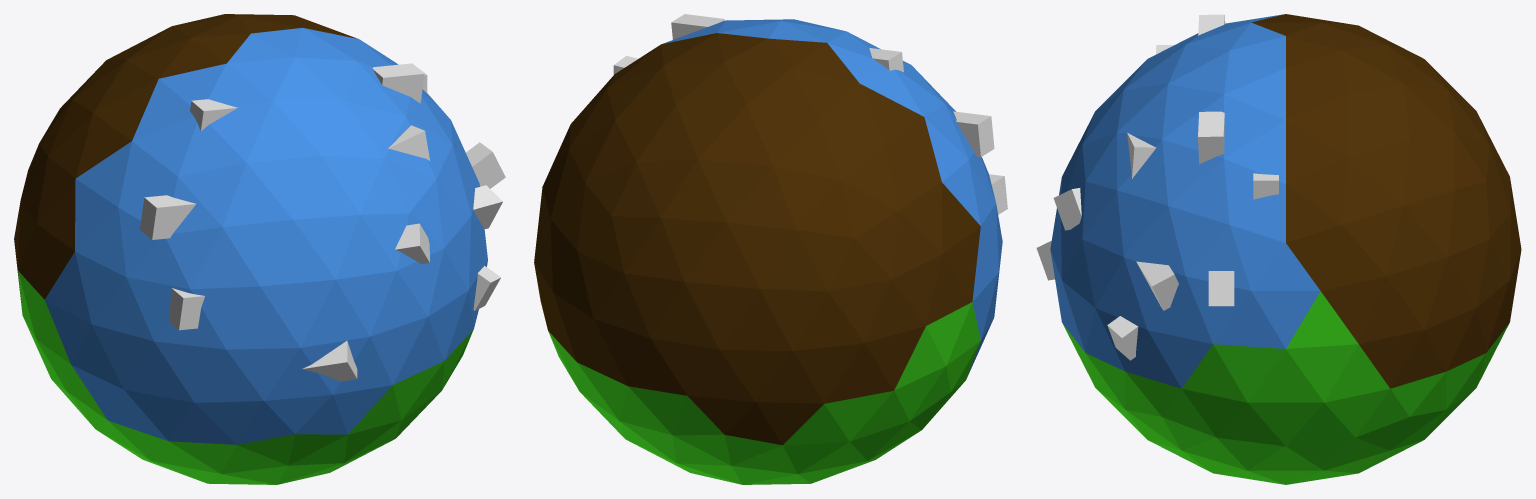
File: planet 1x2x3o.fbx
3 views of the same model, side by side, from view 1: azimuth 30°, elevation 25°; view 2: azimuth 150°, elevation 25°; view 3: azimuth 270°, elevation 25° (orthographic).
Parts seen in each view (by area): view 1: Icosphere.005, Cube.036, Cube.037, Cube.035, Cube.039, Cube.041, Cube.040, Cube.033, Cube.038, Cube.042, Cube.034; view 2: Icosphere.005, Cube.036, Cube.037, Cube.038, Cube.039; view 3: Icosphere.005, Cube.037, Cube.033, Cube.041, Cube.034, Cube.040, Cube.042, Cube.043.
Part boxes in pixels (x1=…): Icosphere.005: x1=14, y1=14, x2=487, y2=484; Cube.036: x1=140, y1=195, x2=195, y2=239; Cube.037: x1=372, y1=63, x2=424, y2=103; Cube.035: x1=302, y1=341, x2=357, y2=381; Cube.039: x1=169, y1=288, x2=204, y2=330; Cube.041: x1=466, y1=142, x2=505, y2=188; Cube.040: x1=395, y1=223, x2=429, y2=264; Cube.033: x1=473, y1=185, x2=502, y2=229; Cube.038: x1=190, y1=99, x2=237, y2=130; Cube.042: x1=388, y1=125, x2=429, y2=160; Cube.034: x1=473, y1=265, x2=500, y2=310; Icosphere.005: x1=534, y1=19, x2=1002, y2=484; Cube.036: x1=953, y1=111, x2=994, y2=157; Cube.037: x1=671, y1=14, x2=724, y2=39; Cube.038: x1=869, y1=48, x2=903, y2=72; Cube.039: x1=989, y1=174, x2=1007, y2=214; Icosphere.005: x1=1050, y1=14, x2=1521, y2=484; Cube.037: x1=1198, y1=111, x2=1224, y2=164; Cube.033: x1=1136, y1=261, x2=1178, y2=310; Cube.041: x1=1208, y1=271, x2=1234, y2=306; Cube.034: x1=1107, y1=316, x2=1138, y2=360; Cube.040: x1=1053, y1=188, x2=1081, y2=230; Cube.042: x1=1127, y1=132, x2=1156, y2=178; Cube.043: x1=1253, y1=173, x2=1278, y2=199.
Size of the model in its own units: 2045 by 2000 by 2059.
